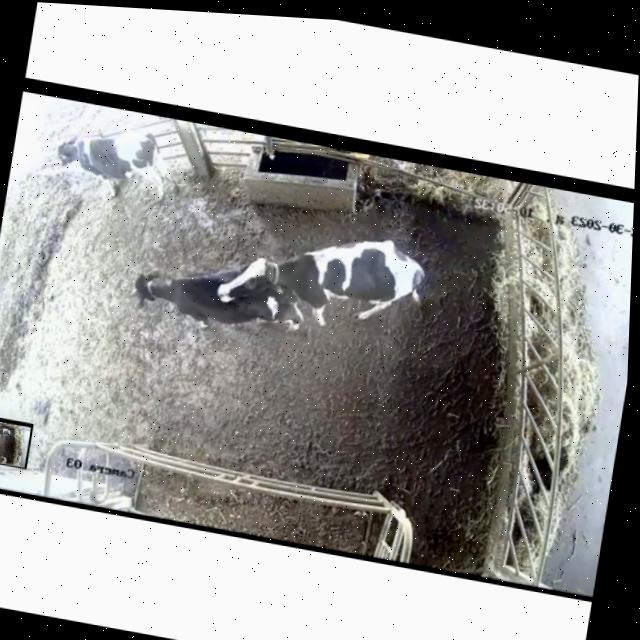propping: (202, 237, 296, 326)
